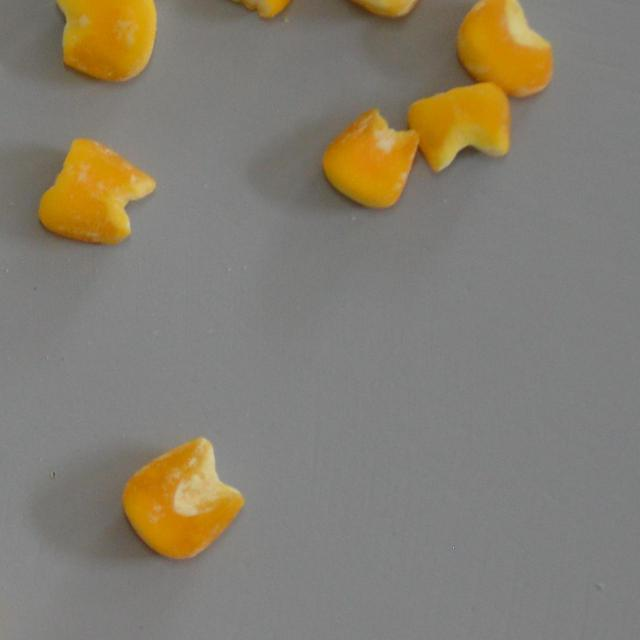no_canjicado: (405, 80, 510, 173), (197, 0, 308, 19)
pelicula: (119, 436, 246, 563), (34, 138, 155, 243), (320, 108, 420, 208), (455, 0, 553, 98), (52, 0, 159, 82), (328, 0, 445, 18)
